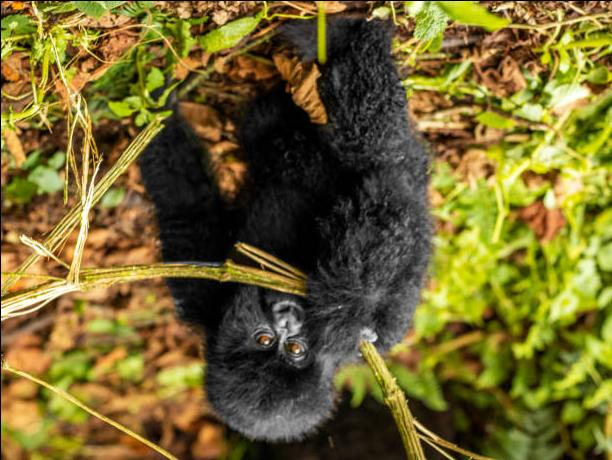goriile_montagne: (140, 52, 424, 435)
